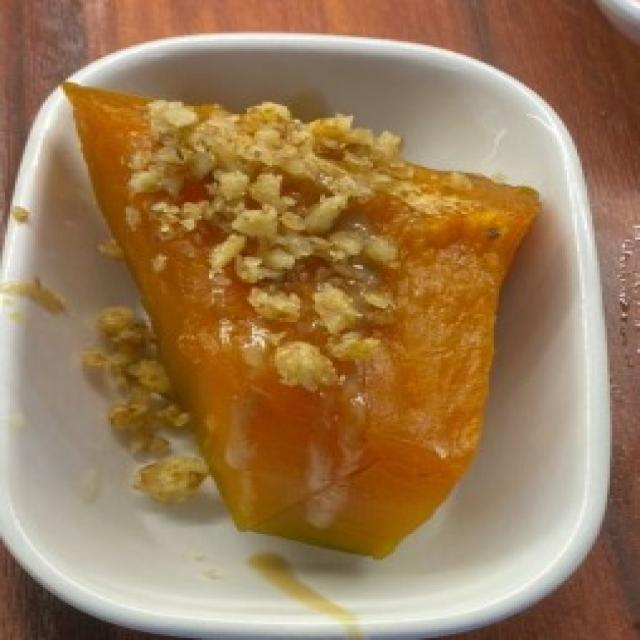yan_yemek: (58, 77, 542, 560)
